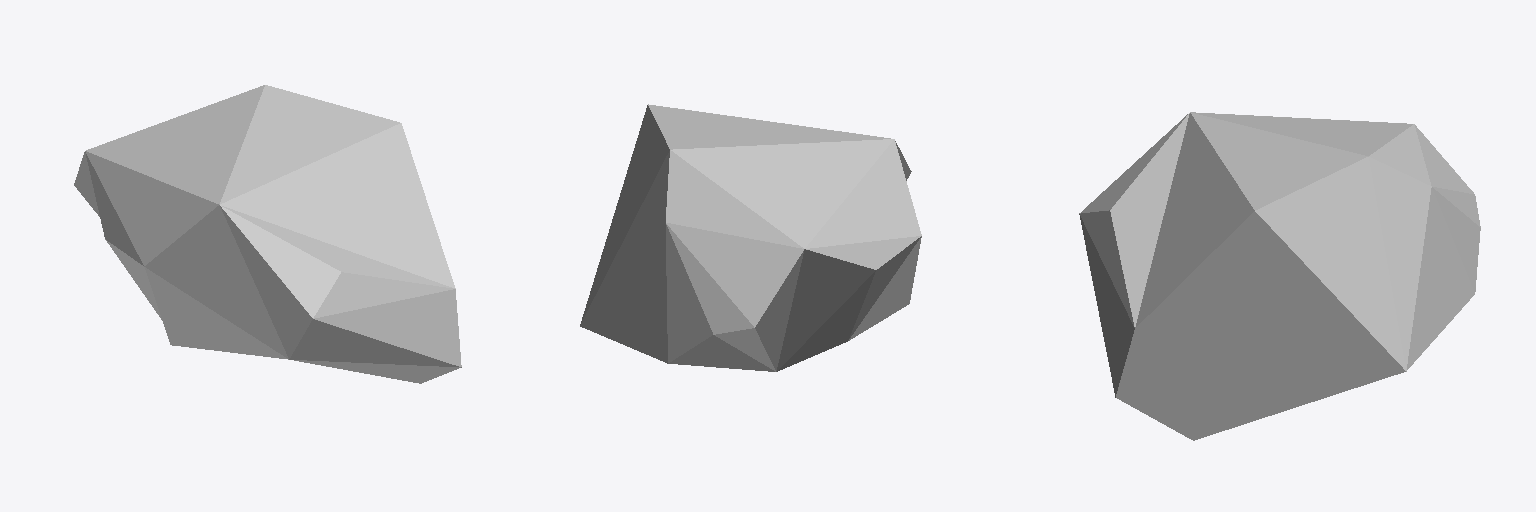
File: Rock2.obj
3 renders of one model, left to right at view 1: azimuth 30°, elevation 25°; view 2: azimuth 150°, elevation 25°; view 3: azimuth 270°, elevation 25°, orthographic.
Parts seen in each view (by area): view 1: pCube1; view 2: pCube1; view 3: pCube1.
Part boxes in pixels (x1,y1,x2,y2): pCube1: (74, 85, 461, 383); pCube1: (580, 104, 921, 371); pCube1: (1079, 112, 1480, 440).
Bounding box in the file's own units: 2.69 × 2.44 × 3.52.